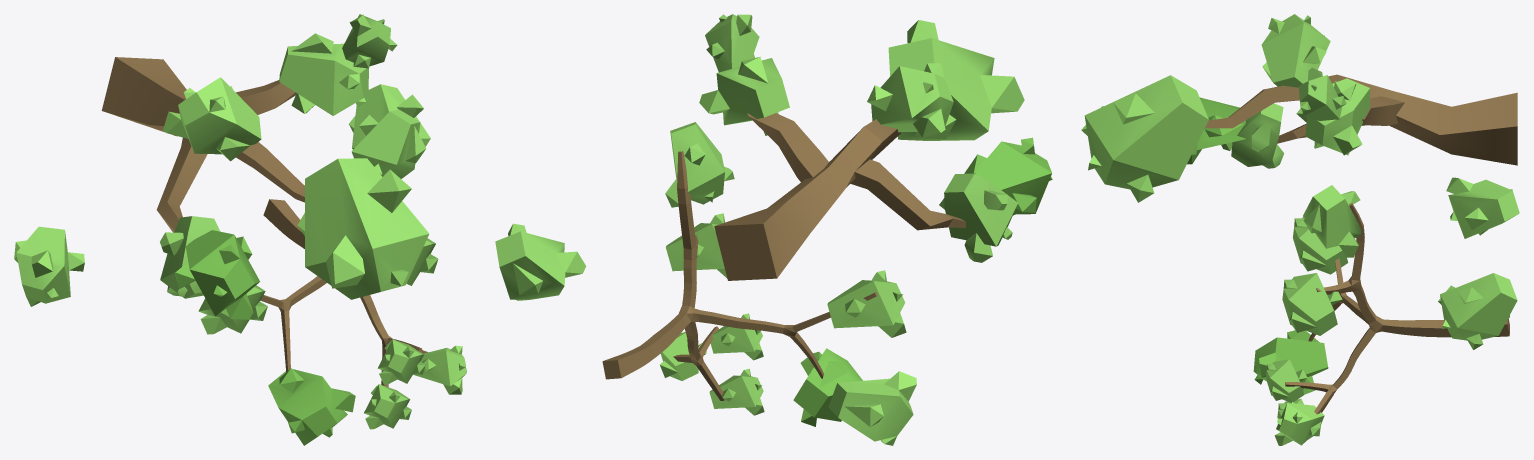
File: trees1.glb
3 renders of one model, left to right at view 1: azimuth 30°, elevation 25°; view 2: azimuth 150°, elevation 25°; view 3: azimuth 270°, elevation 25°, orthographic. The views are drawn at different scales.
Visible parts, largest first — view 1: BranchesCBranchesuBranchesbBrancheseBranches.Branches0Branc. (×14), Trunk.007, Plane_Material_002_0.001, BranchesCBranchesuBranchesbBrancheseBranchesBranch.007; view 2: BranchesCBranchesuBranchesbBrancheseBranches.Branches0Branc. (×14), Trunk.007, Plane_Material_002_0.001, BranchesCBranchesuBranchesbBrancheseBranchesBranch.007; view 3: BranchesCBranchesuBranchesbBrancheseBranches.Branches0Branc. (×13), Trunk.007, Plane_Material_002_0.001, BranchesCBranchesuBranchesbBrancheseBranchesBranch.007.
Part boxes in pixels (x1,y1,x2,y2): BranchesCBranchesuBranchesbBrancheseBranches.Branches0Branc. (×14): (14, 14, 466, 445); Trunk.007: (101, 57, 304, 232); Plane_Material_002_0.001: (260, 199, 427, 387); BranchesCBranchesuBranchesbBrancheseBranchesBranch.007: (160, 216, 220, 298); BranchesCBranchesuBranchesbBrancheseBranches.Branches0Branc. (×14): (495, 14, 1052, 445); Trunk.007: (714, 113, 965, 280); Plane_Material_002_0.001: (602, 151, 877, 400); BranchesCBranchesuBranchesbBrancheseBranchesBranch.007: (939, 173, 1017, 262); BranchesCBranchesuBranchesbBrancheseBranches.Branches0Branc. (×13): (1081, 14, 1519, 445); Trunk.007: (1205, 74, 1517, 165); Plane_Material_002_0.001: (1285, 203, 1509, 414); BranchesCBranchesuBranchesbBrancheseBranchesBranch.007: (1221, 103, 1284, 168).
Size of what is drawn, in the model's own units: 1.35 by 1.29 by 1.43.
